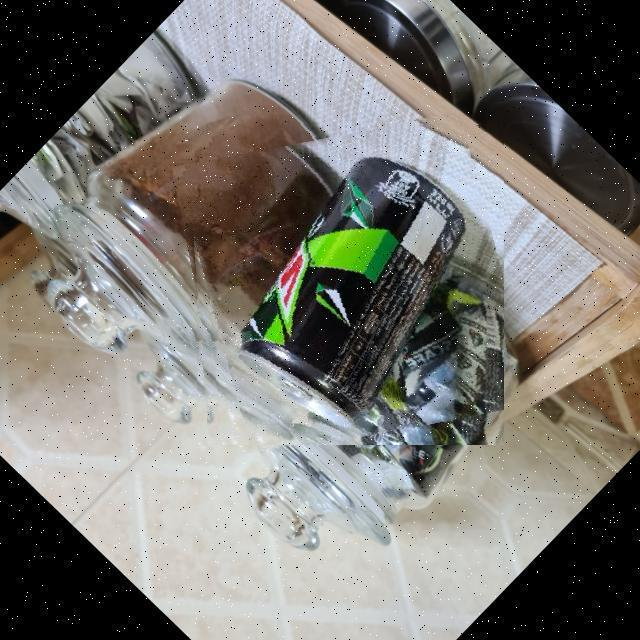recyclable: (185, 123, 504, 445)
